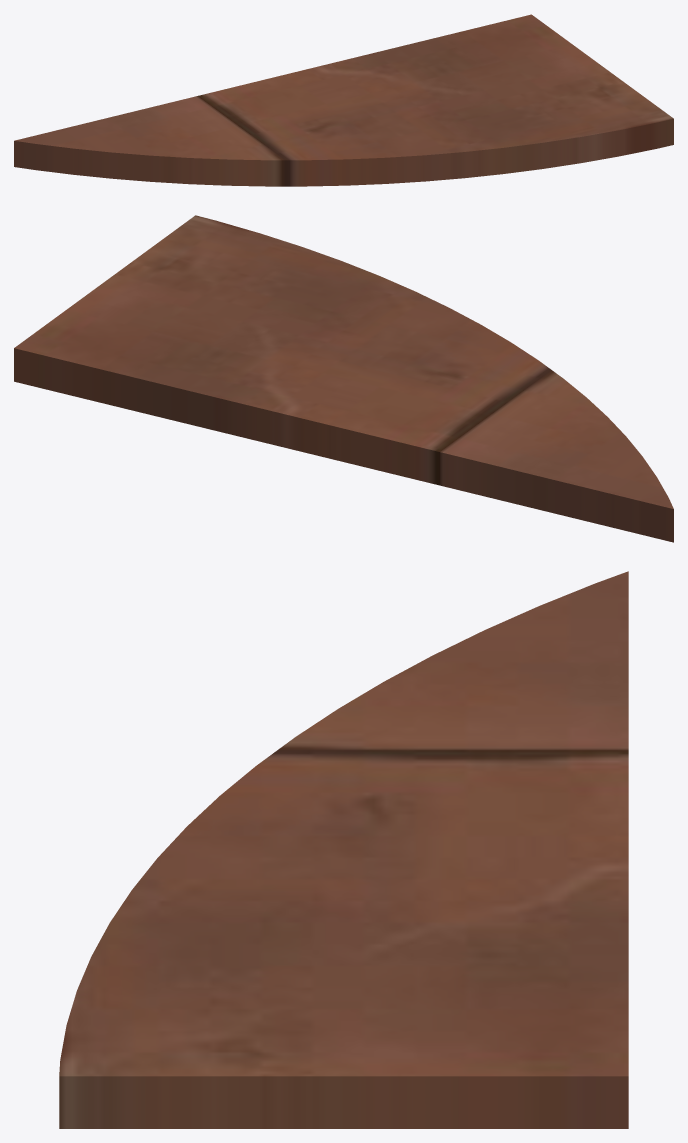
Rendered from Tile_Break5.FBX.
3 views of the same model, one above another, from view 1: azimuth 30°, elevation 25°; view 2: azimuth 150°, elevation 25°; view 3: azimuth 270°, elevation 25° (orthographic). The views are drawn at different scales.
Parts seen in each view (by area): view 1: Piso86; view 2: Piso86; view 3: Piso86.
Part boxes in pixels (left/top/right/bottom): Piso86: left=14, top=14, right=673, bottom=186; Piso86: left=14, top=215, right=673, bottom=542; Piso86: left=59, top=571, right=628, bottom=1128.
Size of the model in its own units: 103 by 5 by 49.18.
Materials: 1 (1 with a texture image).
